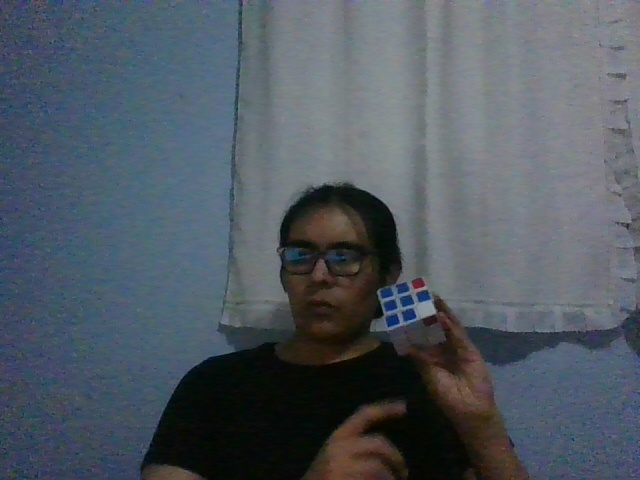rubik: (377, 276, 447, 357)
